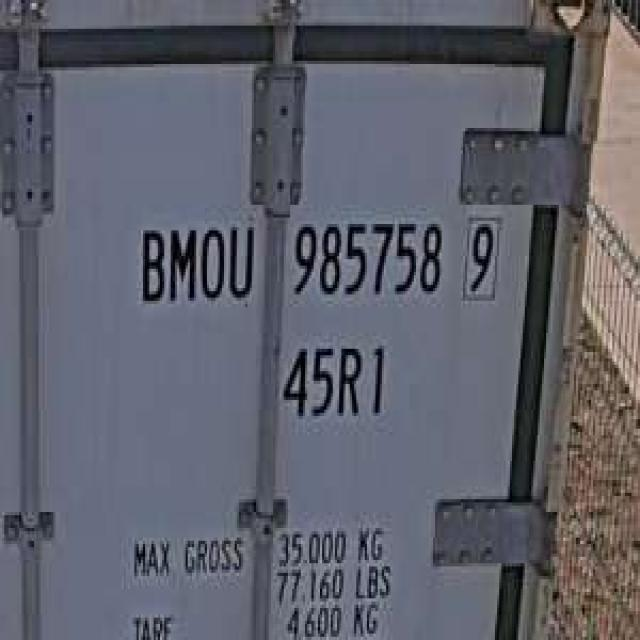dv: (458, 205, 506, 304)
owner: (135, 212, 258, 310)
serial: (286, 205, 446, 307)
size: (275, 329, 393, 428)
